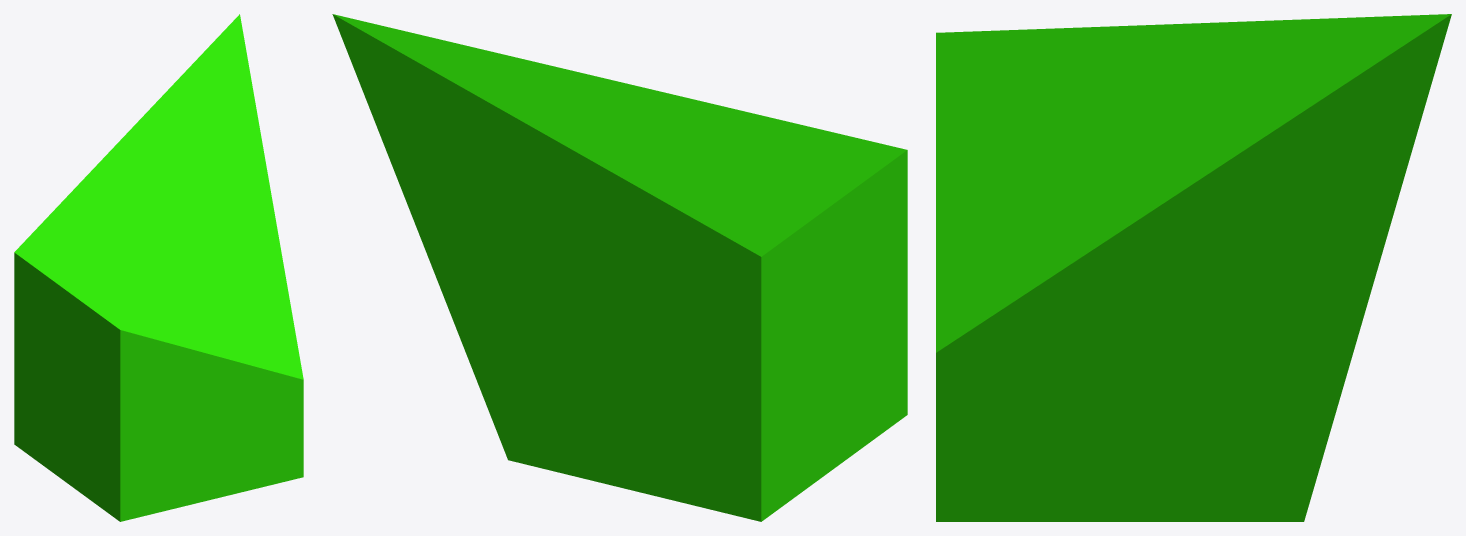
3 views of the same model, side by side, from view 1: azimuth 30°, elevation 25°; view 2: azimuth 150°, elevation 25°; view 3: azimuth 270°, elevation 25° (orthographic). The views are drawn at different scales.
Parts seen in each view (by area): view 1: Cube; view 2: Cube; view 3: Cube.
Part boxes in pixels (<box>): Cube: <box>14,14,303,521</box>; Cube: <box>332,14,907,521</box>; Cube: <box>936,14,1451,521</box>.
Size of the model in its own units: 2.92 by 3.48 by 2.8.
